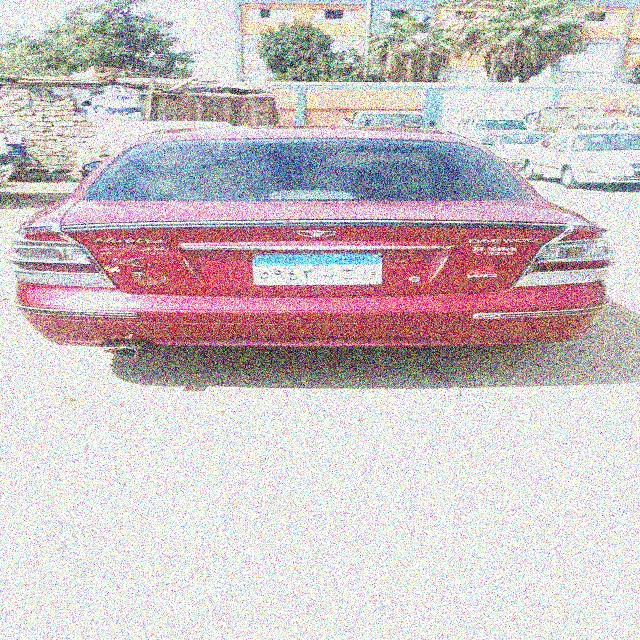License Plate: (249, 251, 385, 287)
